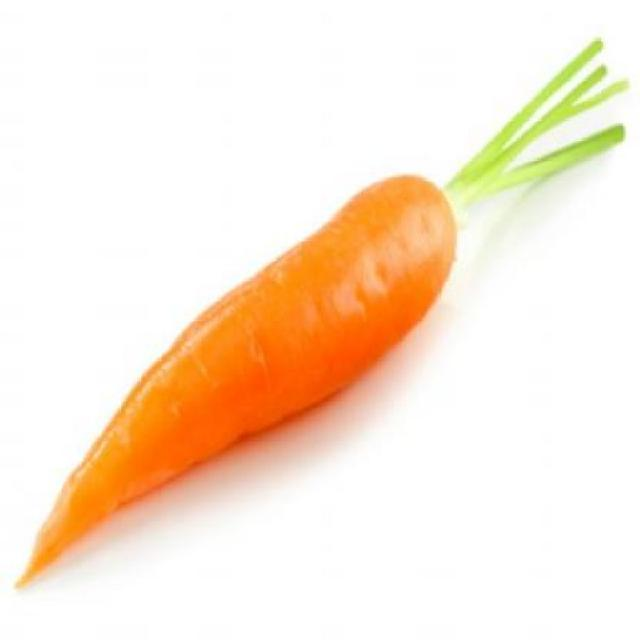carrot: (18, 134, 474, 628)
